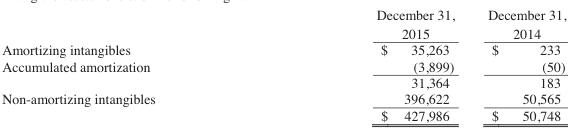table: (1, 1, 565, 125)
table column: (1, 1, 265, 125), (265, 1, 470, 125), (470, 1, 565, 125)
table column header: (1, 1, 565, 40)
table row: (1, 1, 565, 40), (1, 105, 565, 125), (1, 72, 565, 89), (1, 40, 565, 56), (1, 56, 565, 72), (1, 89, 565, 105)
